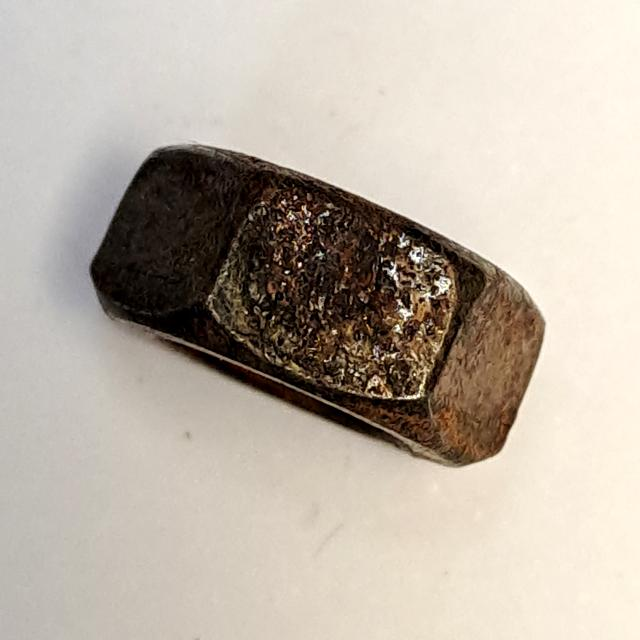Side_Rust: (75, 126, 574, 486)
